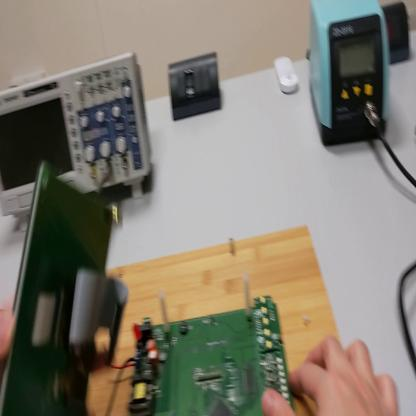hand: (261, 335, 400, 416), (1, 309, 17, 362)
low voltage board: (96, 269, 290, 416)
oscilloscope: (2, 52, 155, 231)
socket: (383, 3, 411, 68)
welder station: (311, 3, 390, 149)
working area: (88, 225, 354, 412)
